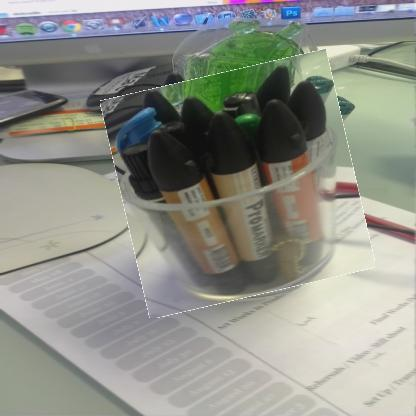Pen: (111, 61, 365, 307)
